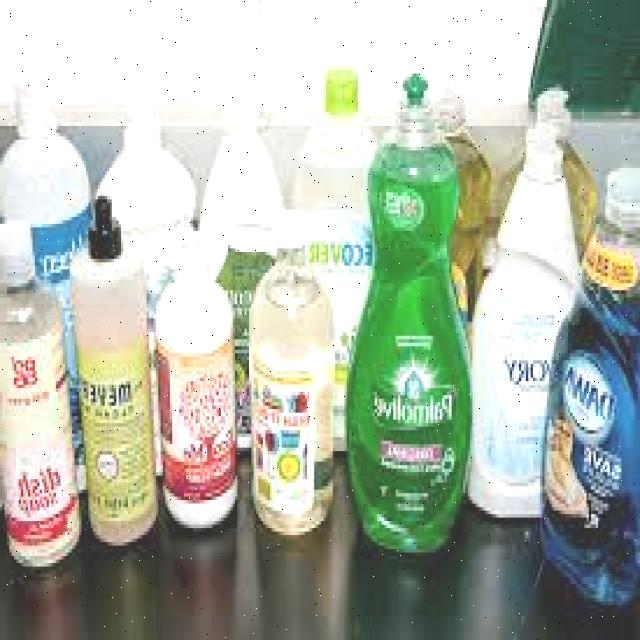liquid soap: (346, 55, 467, 565), (469, 80, 590, 527), (534, 145, 640, 612), (281, 65, 386, 415), (193, 85, 286, 445), (150, 228, 240, 544), (76, 197, 153, 557), (252, 210, 332, 544), (0, 222, 72, 576), (95, 95, 196, 275), (0, 70, 93, 245)
